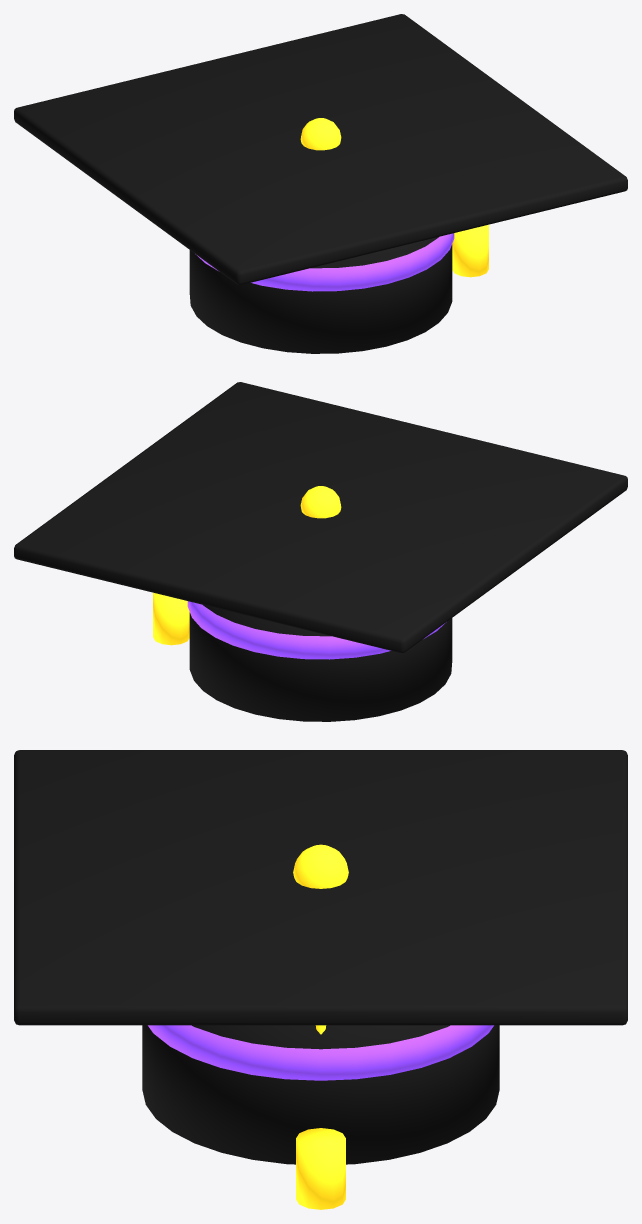
The model's file is eecohm_graduation_cap.glb.
3 renders of one model, top to bottom at view 1: azimuth 30°, elevation 25°; view 2: azimuth 150°, elevation 25°; view 3: azimuth 270°, elevation 25°, orthographic. The views are drawn at different scales.
Parts seen in each view (by area): view 1: Cap_Board, Cap_Dome, Cap_Band, Cap_TasselTip, Cap_Button; view 2: Cap_Board, Cap_Dome, Cap_Band, Cap_TasselTip, Cap_Button; view 3: Cap_Board, Cap_Dome, Cap_Band, Cap_TasselTip, Cap_Button.
Part boxes in pixels (x1,y1,x2,y2): Cap_Board: (14, 14, 627, 284); Cap_Dome: (189, 237, 452, 353); Cap_Band: (195, 233, 454, 291); Cap_TasselTip: (452, 224, 488, 277); Cap_Button: (300, 118, 341, 150); Cap_Board: (14, 382, 627, 652); Cap_Dome: (189, 605, 452, 721); Cap_Band: (187, 601, 446, 659); Cap_TasselTip: (153, 592, 189, 645); Cap_Button: (300, 486, 341, 518); Cap_Board: (14, 750, 627, 1025); Cap_Dome: (142, 1025, 499, 1164); Cap_Band: (148, 1025, 493, 1080); Cap_TasselTip: (296, 1128, 345, 1209); Cap_Button: (293, 844, 348, 888).
Size of the model in its own units: 1.1 by 0.5 by 1.1.
